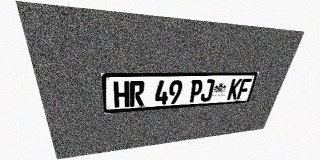4: (154, 80, 170, 105)
9: (168, 80, 183, 104)
F: (236, 78, 252, 99)
H: (113, 81, 129, 108)
J: (200, 79, 215, 102)
K: (227, 79, 242, 100)
P: (188, 79, 204, 103)
R: (130, 81, 145, 107)
